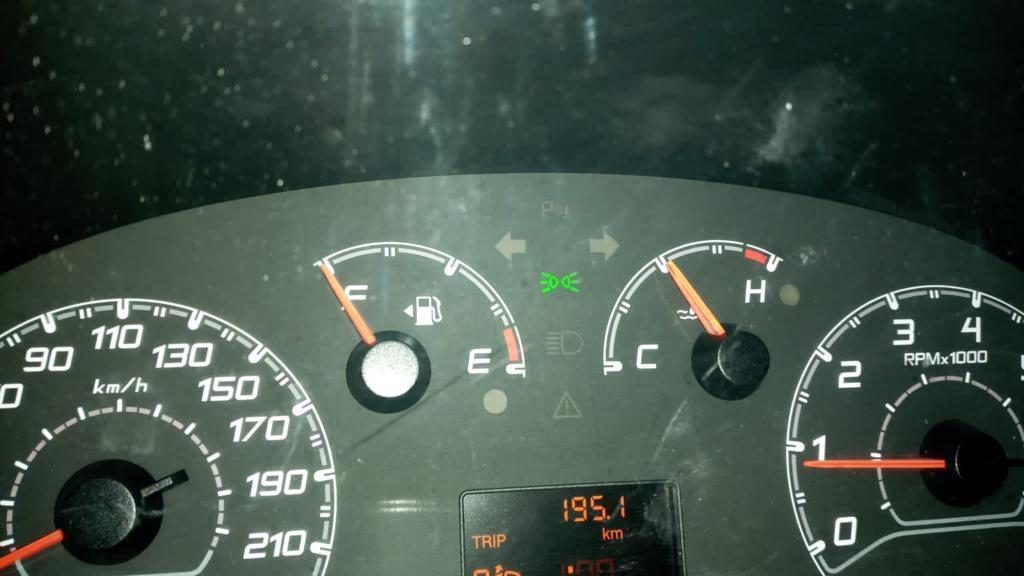,: (606, 513, 612, 522)
1: (616, 493, 627, 520), (559, 496, 570, 522)
5: (588, 493, 607, 522)
9: (570, 495, 587, 523)
X: (469, 533, 481, 550), (610, 527, 625, 540), (599, 525, 610, 541), (481, 533, 492, 549), (496, 532, 506, 549), (492, 533, 496, 549)
odometer: (454, 477, 688, 576)
